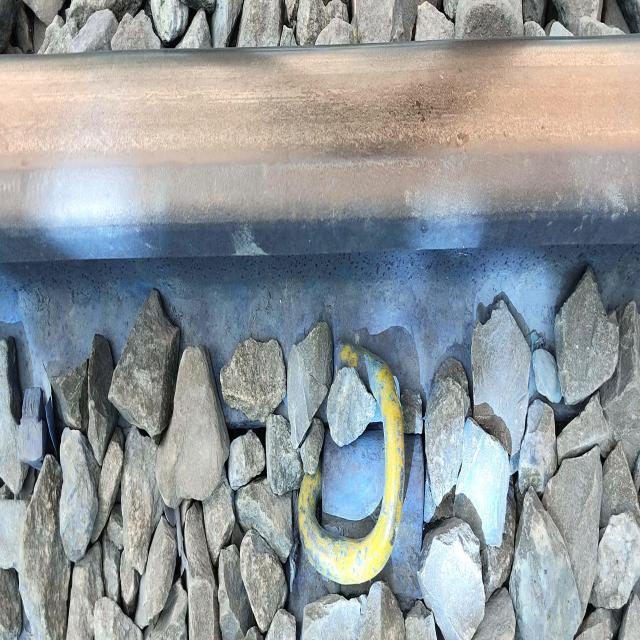Good Fasteners: (293, 338, 435, 593)
